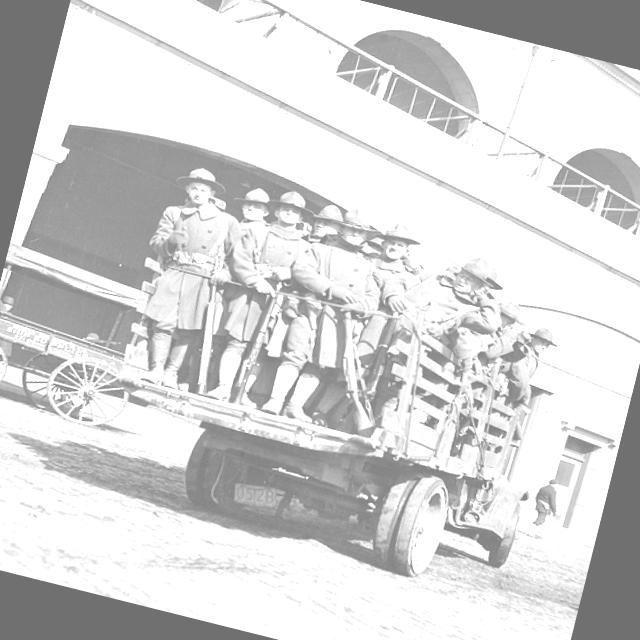Vehicle: (83, 240, 573, 603)
